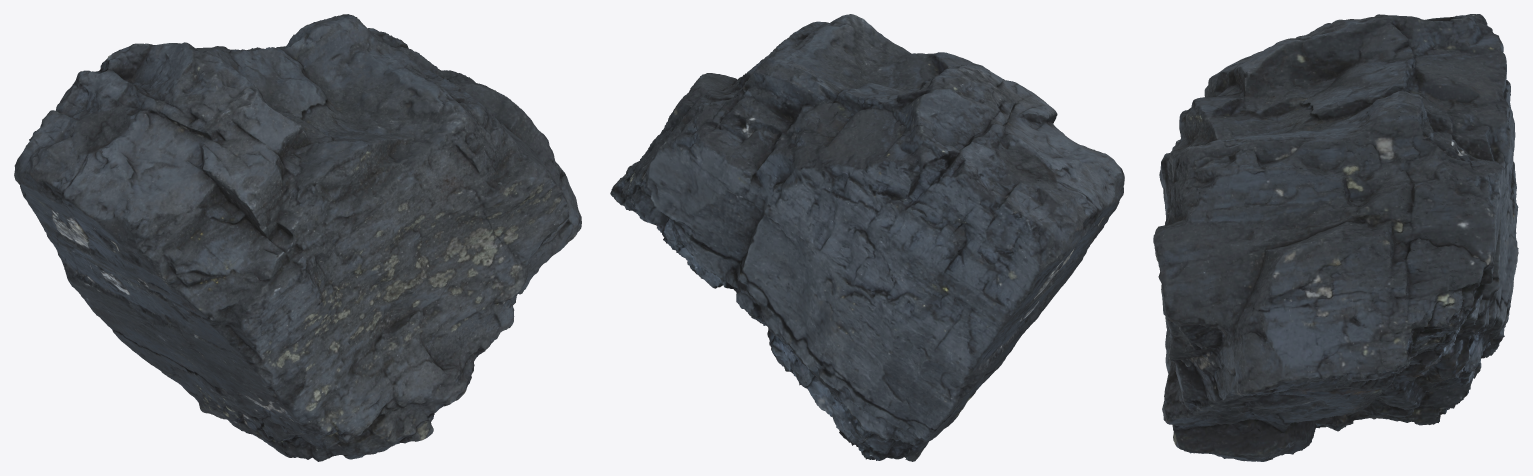
The model's file is Coal.glb.
3 renders of one model, left to right at view 1: azimuth 30°, elevation 25°; view 2: azimuth 150°, elevation 25°; view 3: azimuth 270°, elevation 25°, orthographic. The views are drawn at different scales.
Visible parts, largest first — view 1: Object_2, Object_3, Object_4; view 2: Object_3, Object_4, Object_2; view 3: Object_2, Object_4, Object_3.
Boxes of the visible parts, <box> form: Object_2: <box>36,41,581,461</box>; Object_3: <box>14,65,274,448</box>; Object_4: <box>58,14,511,177</box>; Object_3: <box>610,115,1123,461</box>; Object_4: <box>628,44,1064,329</box>; Object_2: <box>644,14,1124,459</box>; Object_2: <box>1153,15,1505,461</box>; Object_4: <box>1285,14,1514,448</box>; Object_3: <box>1252,26,1518,454</box>.
Size of the model in its own units: 0.4094 by 0.3076 by 0.2549.
Materials: 1 (1 with a texture image).
